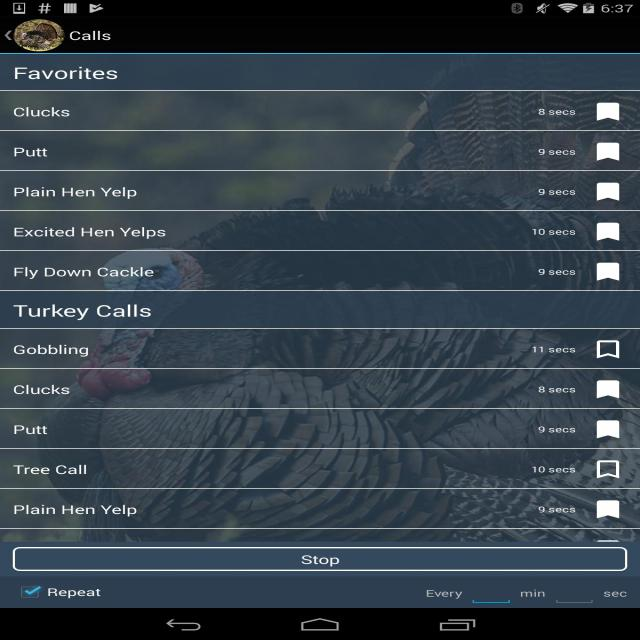button: (0, 489, 640, 529), (2, 90, 640, 130), (1, 408, 640, 447), (1, 448, 640, 487), (2, 368, 640, 407), (1, 132, 640, 170), (1, 212, 638, 250), (1, 252, 637, 290), (4, 330, 640, 368), (0, 172, 639, 209), (15, 546, 628, 572), (594, 98, 622, 125), (592, 141, 624, 162), (594, 260, 622, 282), (594, 221, 620, 243), (596, 499, 620, 522), (595, 181, 621, 202), (595, 379, 621, 400), (596, 339, 620, 360), (597, 420, 619, 442), (598, 460, 618, 480), (20, 585, 43, 599), (0, 26, 13, 48)
heading: (9, 303, 159, 322), (11, 61, 122, 85), (70, 29, 111, 45)
image: (0, 88, 640, 578), (15, 18, 64, 52)
label: (45, 587, 103, 600)
text: (13, 225, 168, 239), (12, 266, 156, 281), (12, 502, 141, 518), (11, 184, 137, 200), (12, 344, 89, 359), (12, 464, 89, 478), (10, 105, 72, 119), (12, 384, 70, 398), (529, 463, 580, 477), (530, 226, 576, 239), (10, 145, 50, 159), (535, 504, 578, 517), (532, 344, 578, 356), (537, 267, 578, 280), (12, 423, 49, 437), (536, 106, 579, 118), (534, 188, 578, 198), (424, 589, 463, 600), (538, 148, 578, 158), (539, 426, 576, 436), (537, 386, 577, 395), (520, 588, 546, 599), (604, 589, 628, 600)
